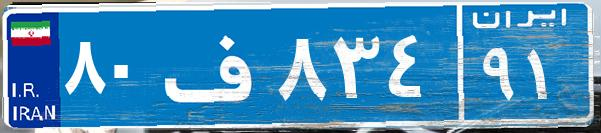0: (110, 28, 158, 105)
1: (525, 38, 570, 115)
3: (330, 28, 385, 110)
4: (385, 28, 445, 110)
8: (273, 28, 330, 110), (57, 26, 110, 107)
9: (475, 38, 525, 113)
ف: (158, 15, 273, 115)
